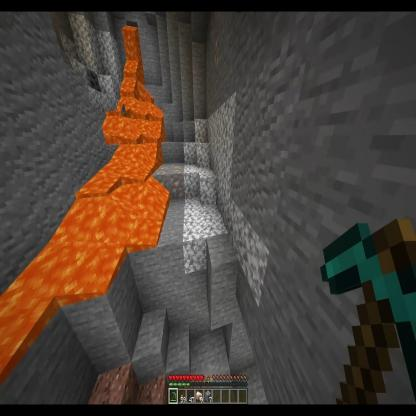iron ore: (152, 170, 171, 199), (170, 170, 187, 200), (212, 26, 223, 70), (209, 13, 216, 45), (156, 164, 172, 171), (171, 164, 186, 171)
